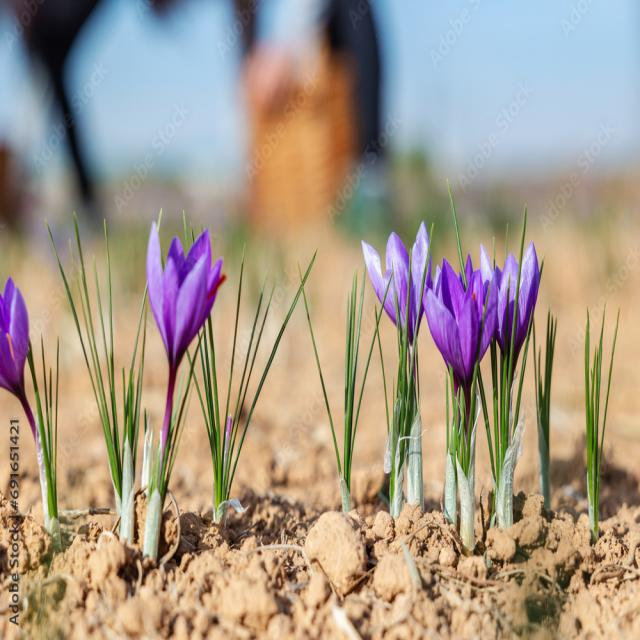saffron open: (146, 223, 224, 450), (424, 259, 498, 424), (361, 221, 431, 345), (0, 277, 35, 437)
